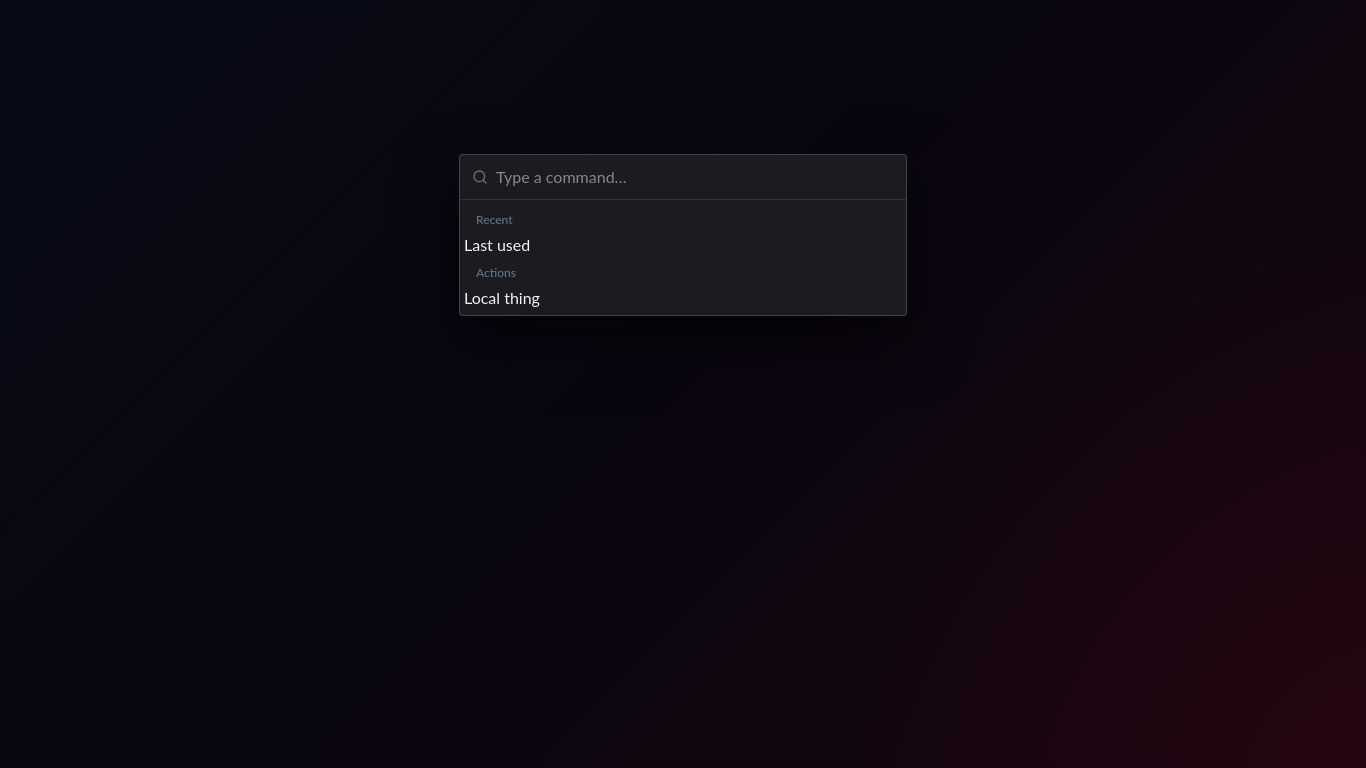
Test: CommandPalette async/groups/recent › shows recent items, grouped async results and drops stale responses
Later steps or results of the test are not shown.
Expected: the text "Recent" is shown, 476,212 -> 512,227
Expected: the text "Last used" is shown, 464,235 -> 530,254
Type "ab" into the dropdown at (695, 177), box 496,155 -> 894,199
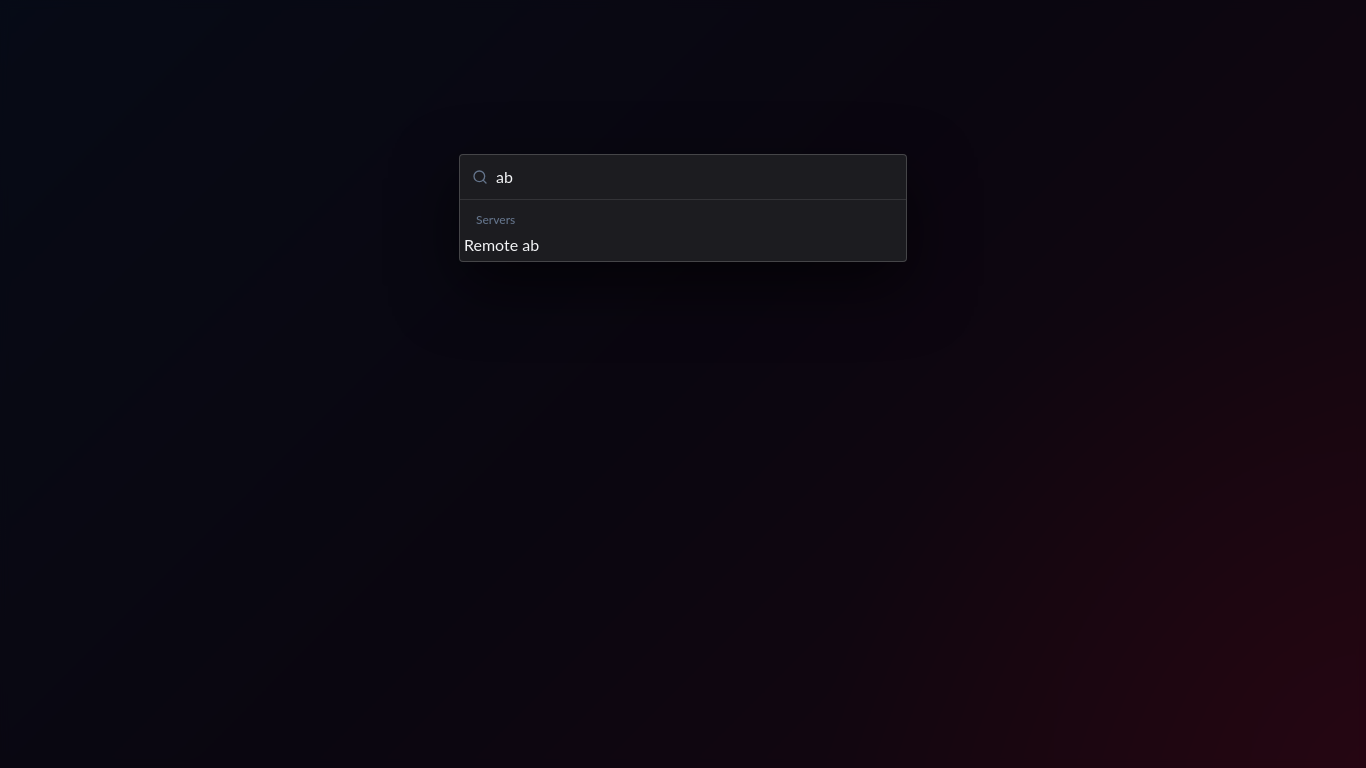
Now the text "Remote ab" is shown, box 464,235 -> 539,254
Now the text "Servers" is shown, box 476,212 -> 515,227
Now the option "Last used" is gone
